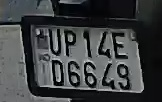1: (81, 28, 95, 61)
4: (100, 61, 118, 92), (96, 31, 113, 60)
6: (65, 57, 83, 89), (80, 60, 99, 89)
9: (114, 63, 133, 91)
D: (47, 59, 67, 88)
E: (111, 30, 130, 62)
P: (62, 27, 79, 57)
U: (46, 27, 64, 57)
